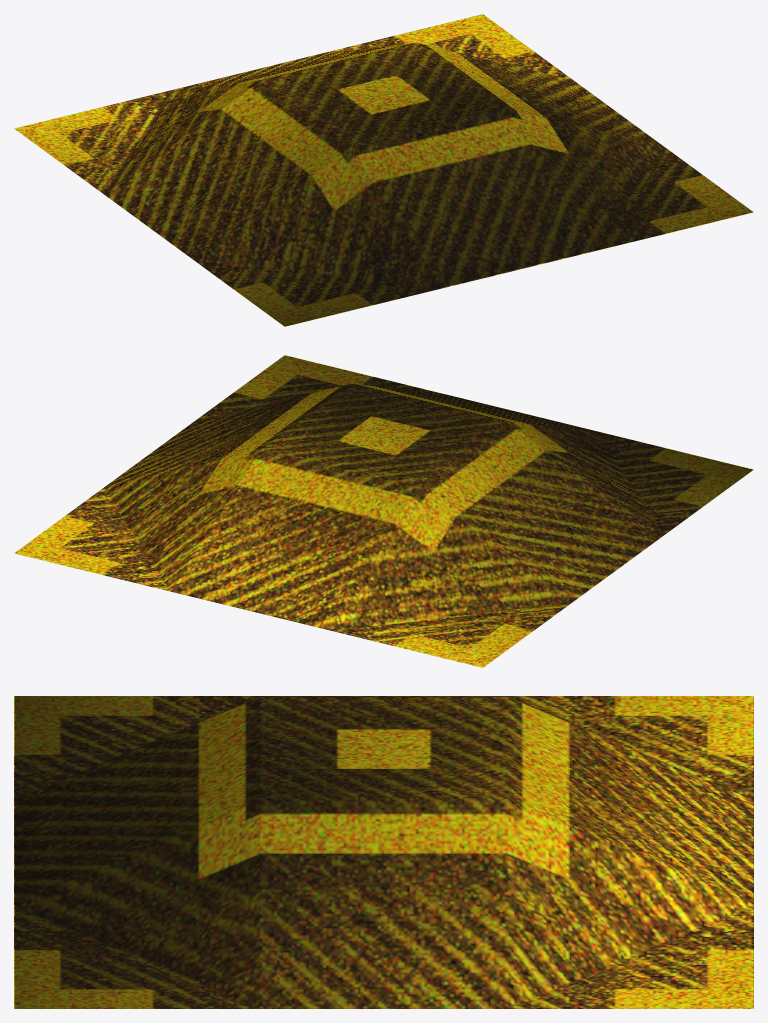
The model's file is Route9Sqrares.obj.
3 renders of one model, top to bottom at view 1: azimuth 30°, elevation 25°; view 2: azimuth 150°, elevation 25°; view 3: azimuth 270°, elevation 25°, orthographic. The views are drawn at different scales.
Visible parts, largest first — view 1: block1; view 2: block1; view 3: block1.
Boxes of the visible parts, x1,y1,x2,y2 form: block1: (14, 14, 753, 326); block1: (14, 355, 753, 667); block1: (14, 696, 753, 1008).
Size of the model in its own units: 18 by 2.77 by 18.
